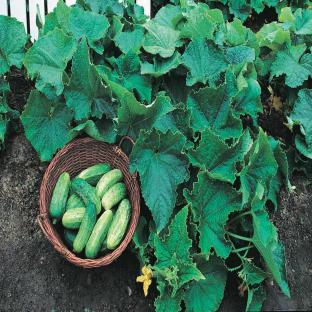Cucumber: (86, 211, 112, 259), (107, 199, 130, 249), (74, 203, 96, 253), (71, 179, 101, 214), (50, 173, 70, 224), (96, 169, 122, 198), (76, 164, 111, 185), (102, 183, 127, 209), (62, 207, 85, 229), (66, 194, 85, 210), (64, 229, 77, 250), (99, 238, 108, 253)
